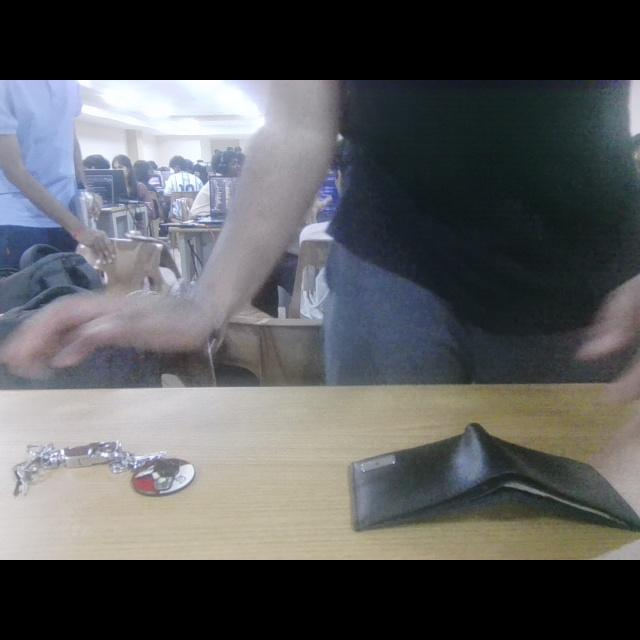keys: (11, 432, 199, 518)
wallet: (320, 412, 640, 560)
